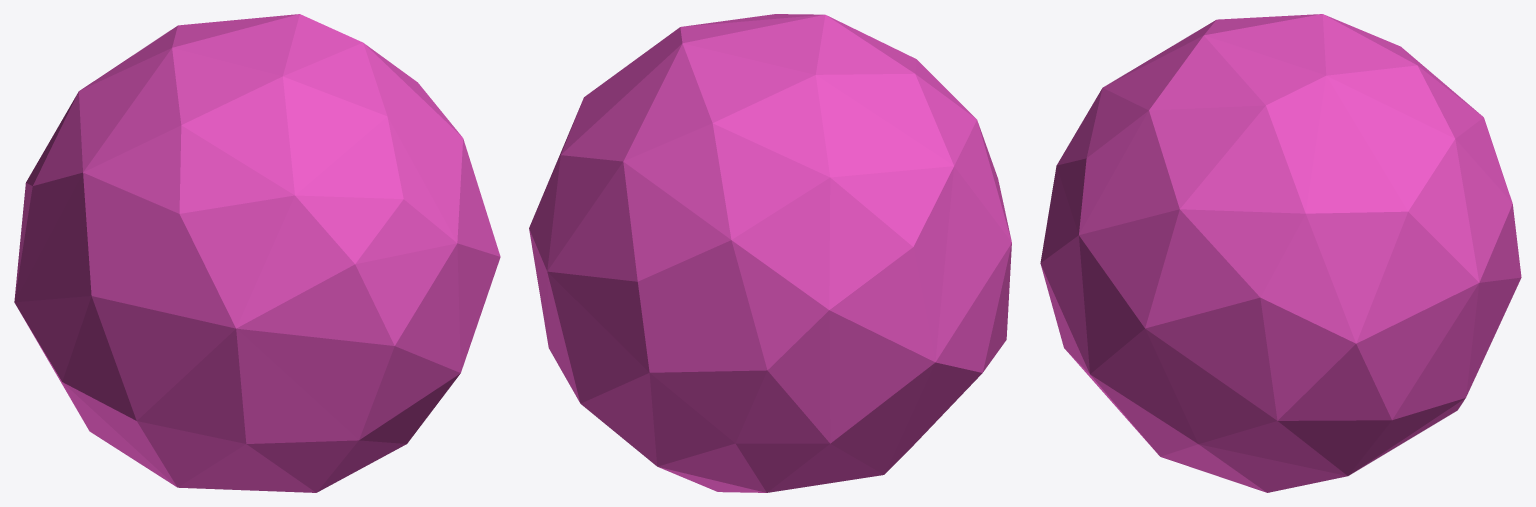
3 views of the same model, side by side, from view 1: azimuth 30°, elevation 25°; view 2: azimuth 150°, elevation 25°; view 3: azimuth 270°, elevation 25° (orthographic). The views are drawn at different scales.
Parts seen in each view (by area): view 1: GJ_504b; view 2: GJ_504b; view 3: GJ_504b.
Part boxes in pixels (x1=…): GJ_504b: x1=14, y1=14, x2=500, y2=492; GJ_504b: x1=529, y1=14, x2=1011, y2=492; GJ_504b: x1=1040, y1=14, x2=1521, y2=492.
Bounding box in the file's own units: 195 × 199 × 203.
